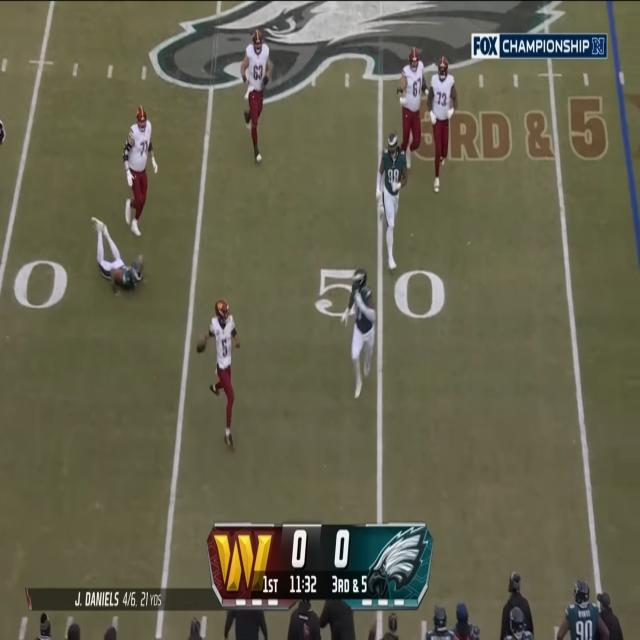Ball: (196, 335, 208, 355)
